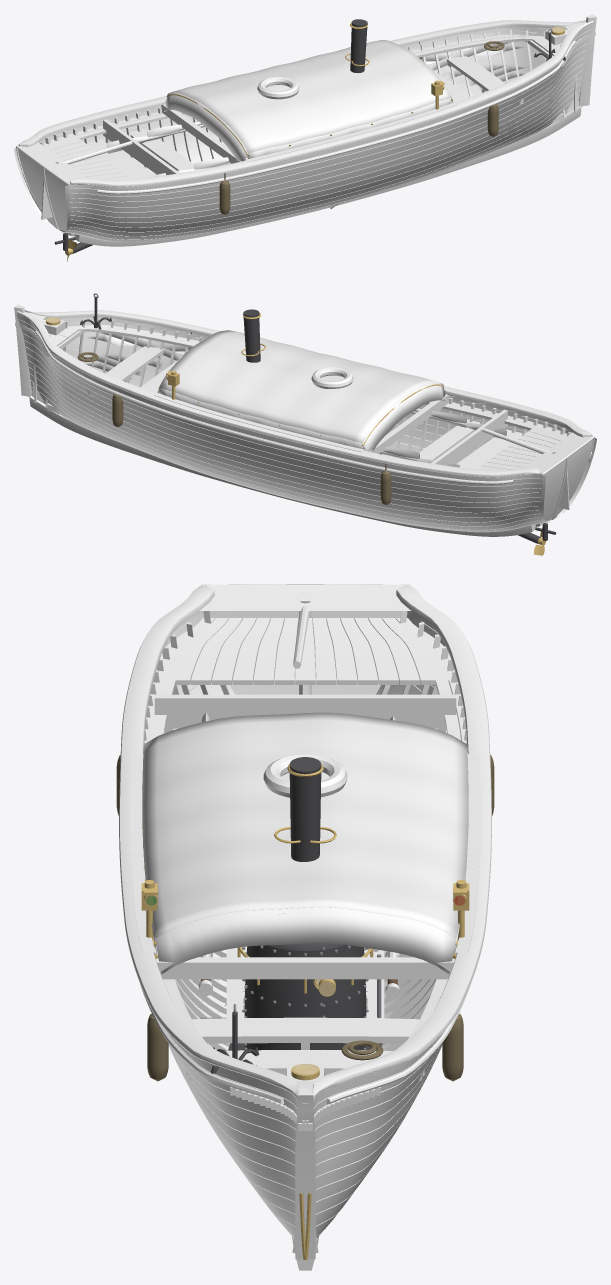
The model's file is boat_complete.glb.
The picture shows the model from 3 angles, top to bottom: view 1: azimuth 30°, elevation 25°; view 2: azimuth 150°, elevation 25°; view 3: azimuth 270°, elevation 25°; orthographic projection. The views are drawn at different scales.
Parts seen in each view (by area): view 1: Planking_Carvel, Canopy_Cover, Keel_Stem_Frames_Gunwale, Seats, Inner_Diagonal_Skin, Decks, Gear_Nav_Safety, Frames, Transom, Coamings, Funnel, Rudder; view 2: Planking_Carvel, Canopy_Cover, Keel_Stem_Frames_Gunwale, Seats, Decks, Inner_Diagonal_Skin, Gear_Nav_Safety, Transom, Frames, Coamings, Funnel, Rudder; view 3: Canopy_Cover, Keel_Stem_Frames_Gunwale, Decks, Planking_Carvel, Seats, Coamings, Gear_Nav_Safety, Boiler, Frames, Funnel, Transom, Engine_Bearers_Floors.
Boxes of the visible parts, <box> form: Planking_Carvel: <box>16,22,594,241</box>; Canopy_Cover: <box>164,40,453,161</box>; Keel_Stem_Frames_Gunwale: <box>17,14,596,246</box>; Seats: <box>89,56,523,178</box>; Inner_Diagonal_Skin: <box>89,27,578,158</box>; Decks: <box>44,32,595,180</box>; Gear_Nav_Safety: <box>107,27,568,214</box>; Frames: <box>39,29,577,168</box>; Transom: <box>14,145,71,232</box>; Coamings: <box>161,97,456,163</box>; Funnel: <box>345,19,369,73</box>; Rudder: <box>41,141,132,219</box>; Planking_Carvel: <box>16,312,594,532</box>; Canopy_Cover: <box>157,330,446,451</box>; Keel_Stem_Frames_Gunwale: <box>14,304,593,536</box>; Seats: <box>87,346,522,469</box>; Decks: <box>15,322,566,470</box>; Inner_Diagonal_Skin: <box>32,318,521,457</box>; Gear_Nav_Safety: <box>42,293,506,505</box>; Transom: <box>539,436,596,522</box>; Frames: <box>33,319,571,459</box>; Coamings: <box>154,387,449,453</box>; Funnel: <box>241,309,265,362</box>; Rudder: <box>482,428,569,509</box>; Canopy_Cover: <box>142,712,468,974</box>; Keel_Stem_Frames_Gunwale: <box>119,584,491,1270</box>; Decks: <box>143,618,466,1131</box>; Planking_Carvel: <box>165,585,445,1237</box>; Seats: <box>154,694,456,1080</box>; Coamings: <box>130,754,480,979</box>; Gear_Nav_Safety: <box>116,712,494,1081</box>; Boiler: <box>237,943,373,1050</box>; Frames: <box>144,611,466,1253</box>; Funnel: <box>274,757,336,861</box>; Transom: <box>201,584,409,694</box>; Engine_Bearers_Floors: <box>226,947,384,1075</box>.
Bounding box in the file's own units: 7.65 × 2.26 × 2.25.
